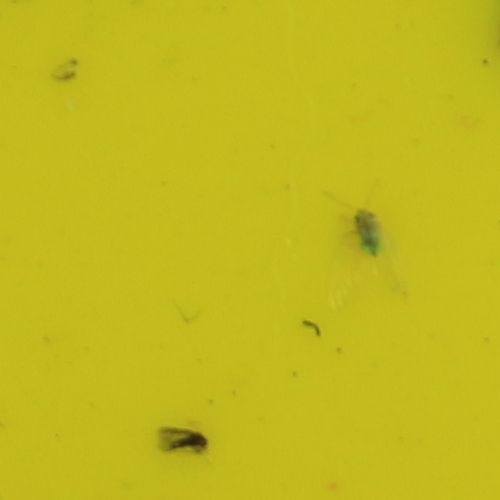Glycaspis: (353, 205, 382, 256)
